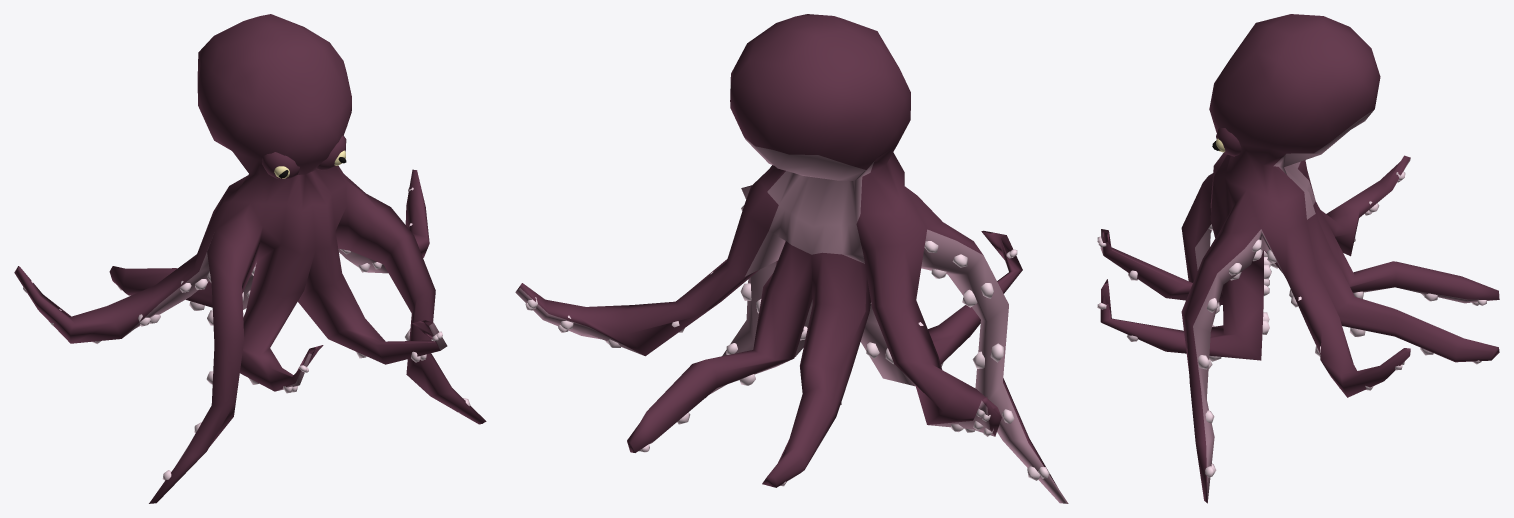
File: NOVELO_OCTOPUS.obj
3 renders of one model, left to right at view 1: azimuth 30°, elevation 25°; view 2: azimuth 150°, elevation 25°; view 3: azimuth 270°, elevation 25°, orthographic. The views are drawn at different scales.
Visible parts, largest first — view 1: Symmetry.1; view 2: Symmetry.1; view 3: Symmetry.1.
Part boxes in pixels (x1,y1,x2,y2): Symmetry.1: (14,14,486,503); Symmetry.1: (515,14,1068,503); Symmetry.1: (1097,14,1499,503).
Size of the model in its own units: 527 by 506 by 459.
